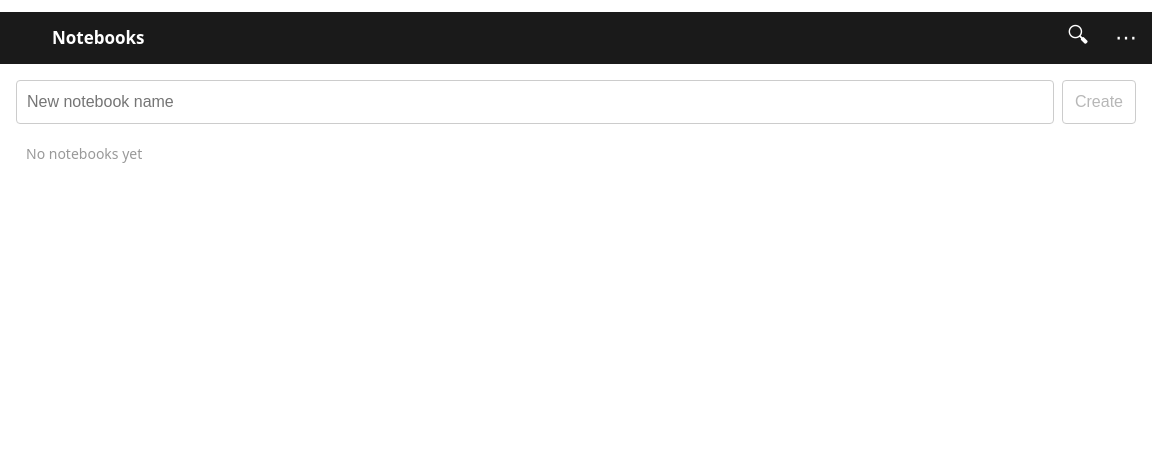
Test: Layout (mobile) › omits the Invites entry when invites are disabled
What coordinates should you click on to do the following:
click the button named "Menu"
I would click on:
 (1126, 38)
Its box is [1104,16,1148,60].
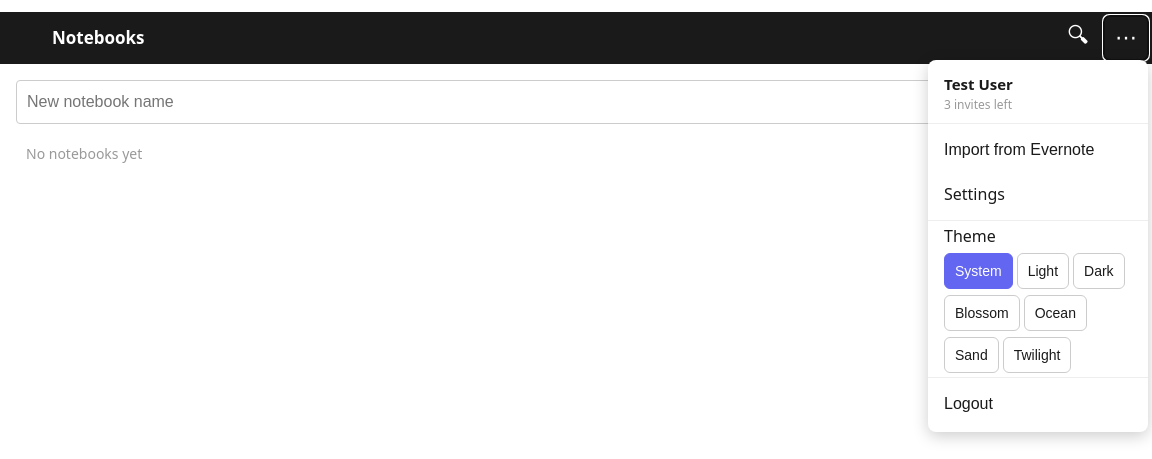
Result: the menu item "Logout" is shown at [928,382,1148,426]
